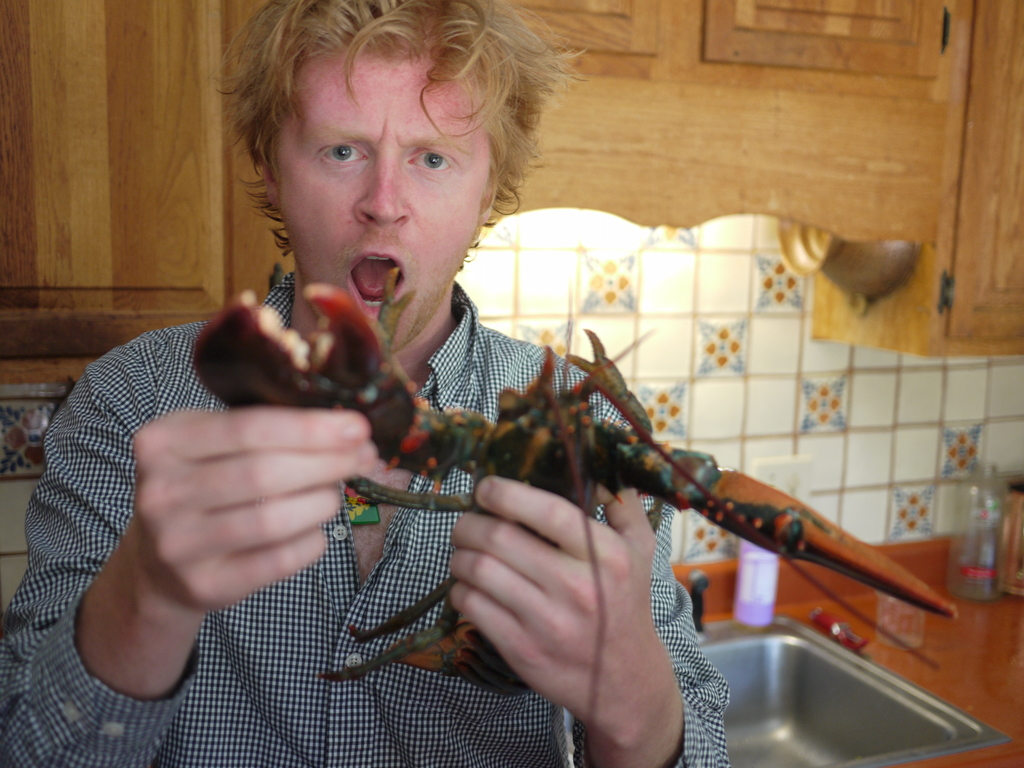tap: (683, 564, 714, 642)
